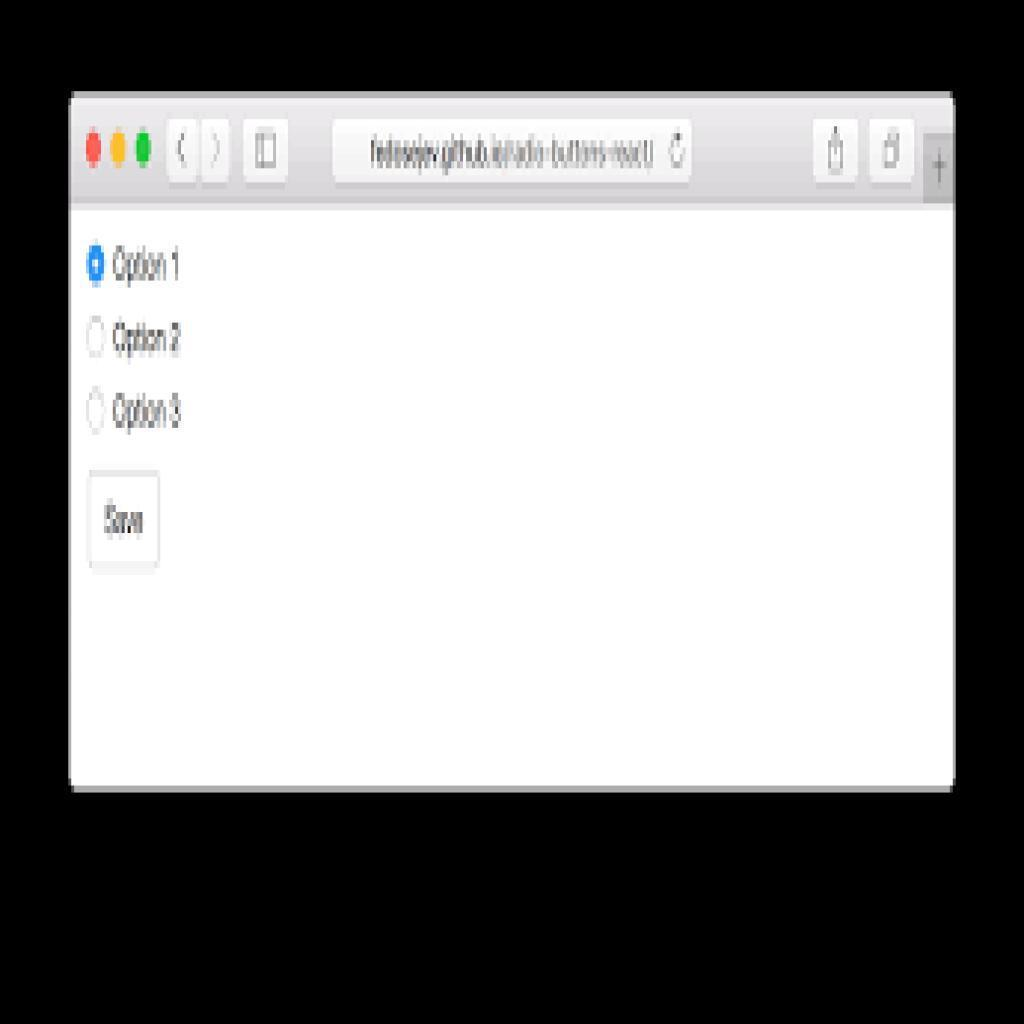button: (90, 476, 161, 567)
radio: (81, 381, 116, 446), (82, 236, 115, 296), (84, 311, 112, 365)
